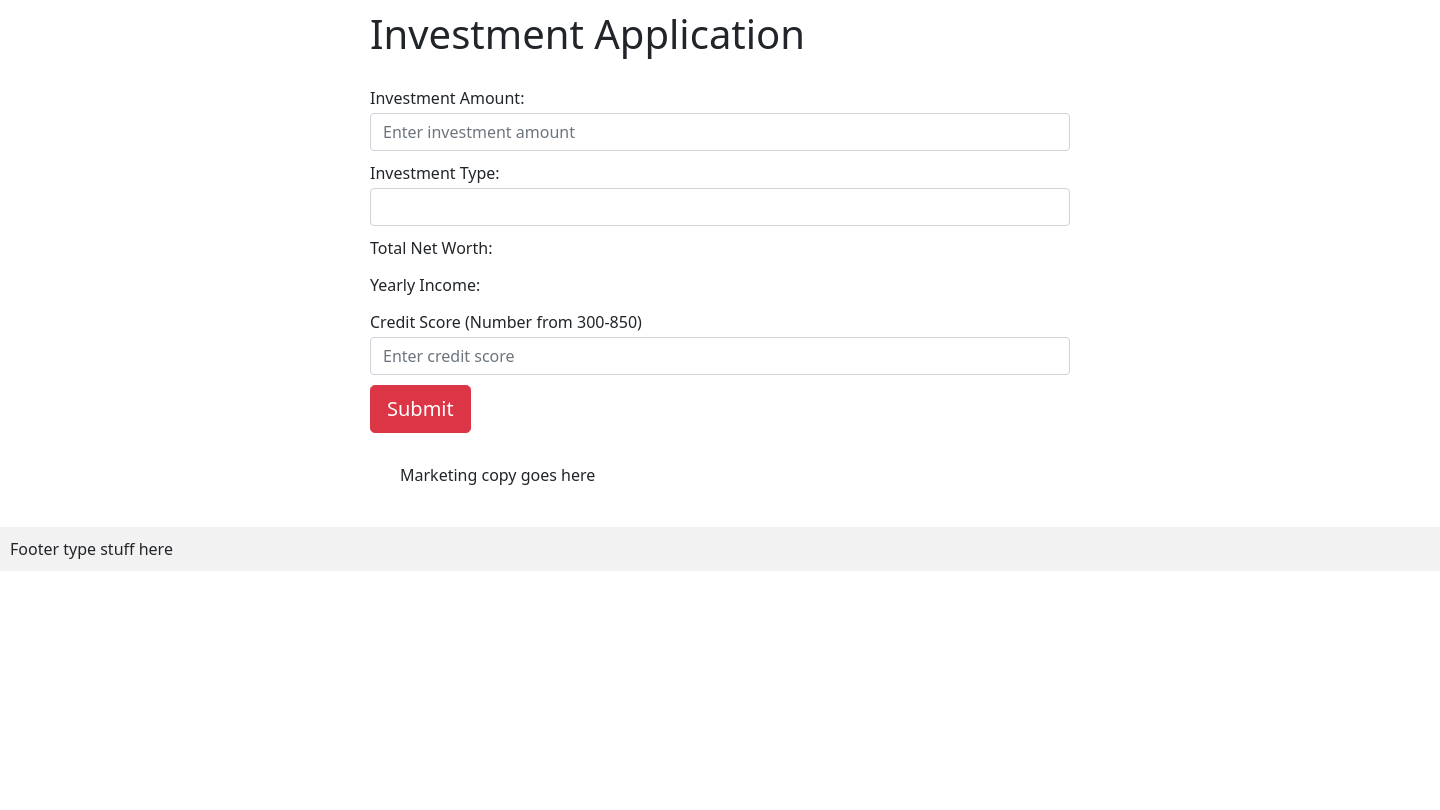
Test case: test validation messages appear after they click button
Step 1. Click the button "Submit" → (420, 409), box [370,385,471,433]
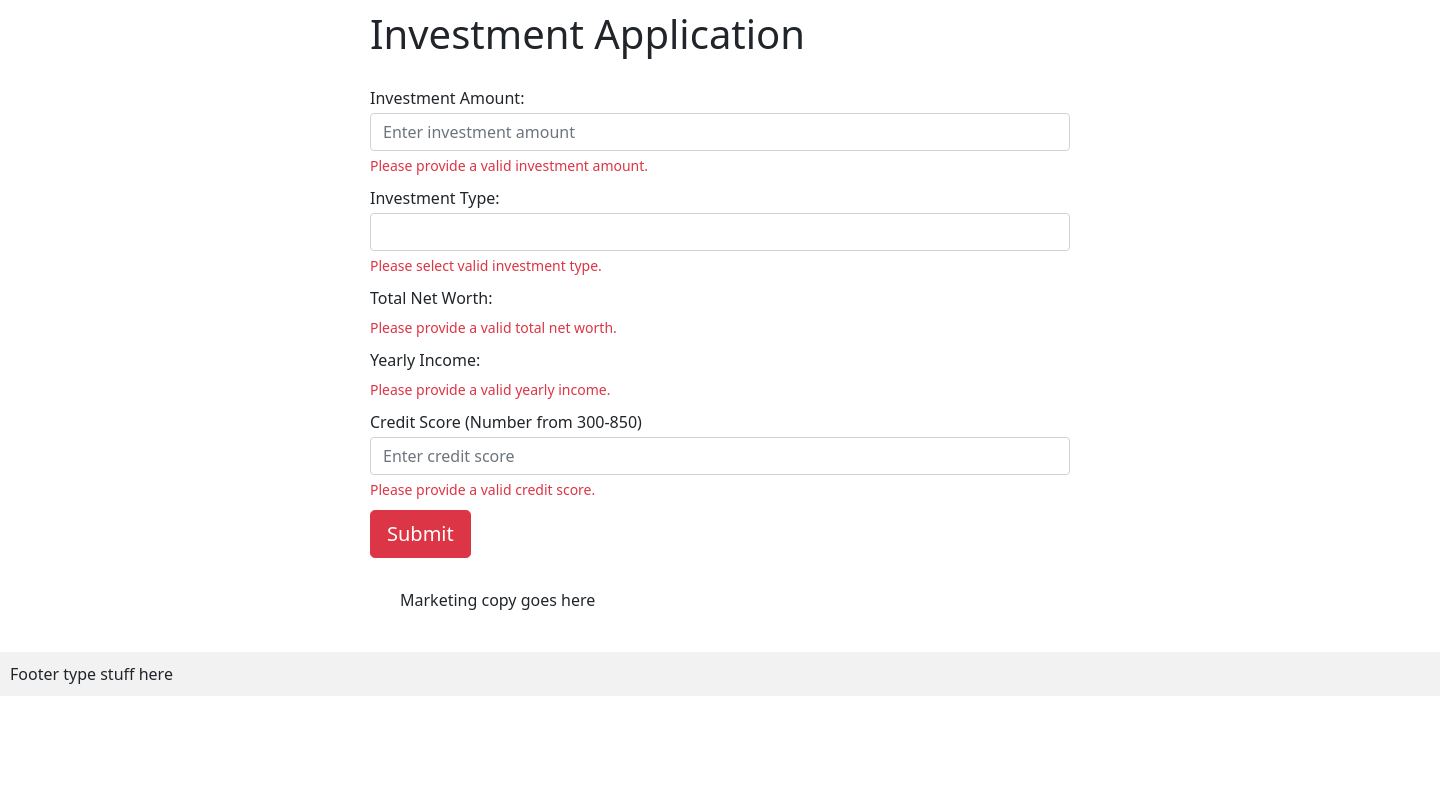
expect the text "Please provide a valid investment amount." is shown: met, box [370,156,648,175]
